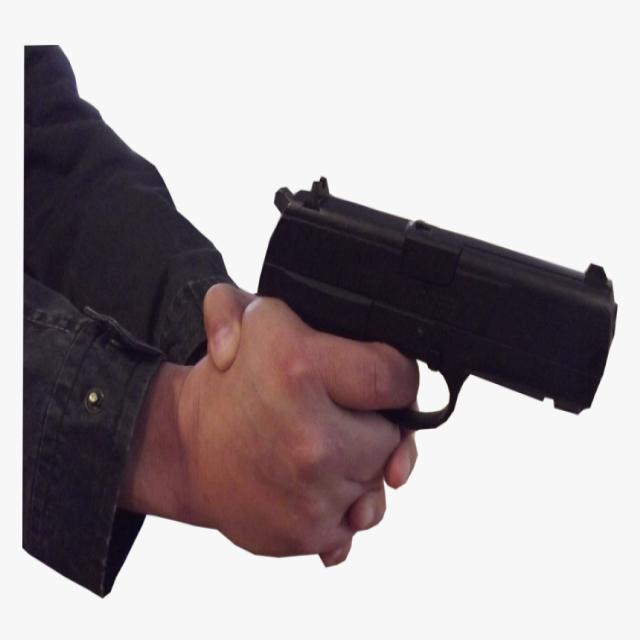HandGun: (257, 182, 619, 431)
